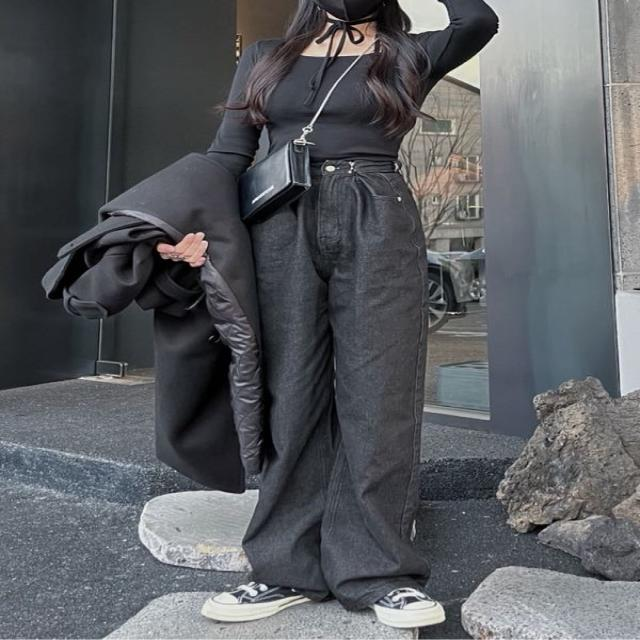denimpants: (251, 160, 432, 611)
longsleeve: (203, 0, 501, 179)
